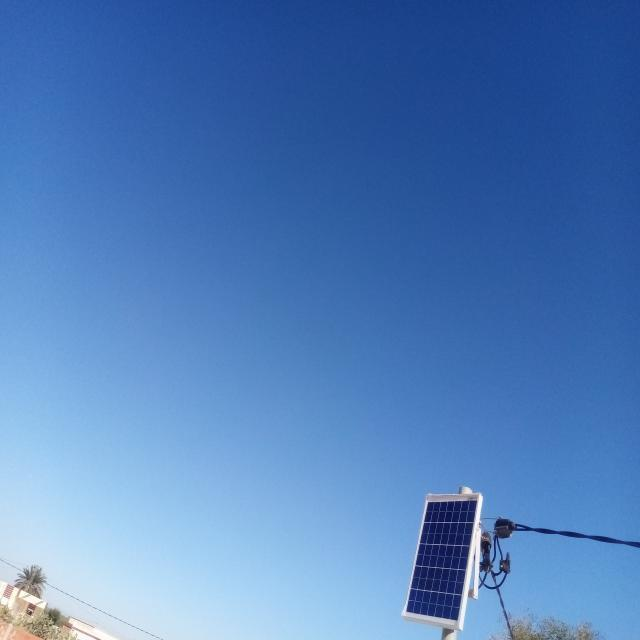Normal Solar Panel: (404, 493, 481, 628)
